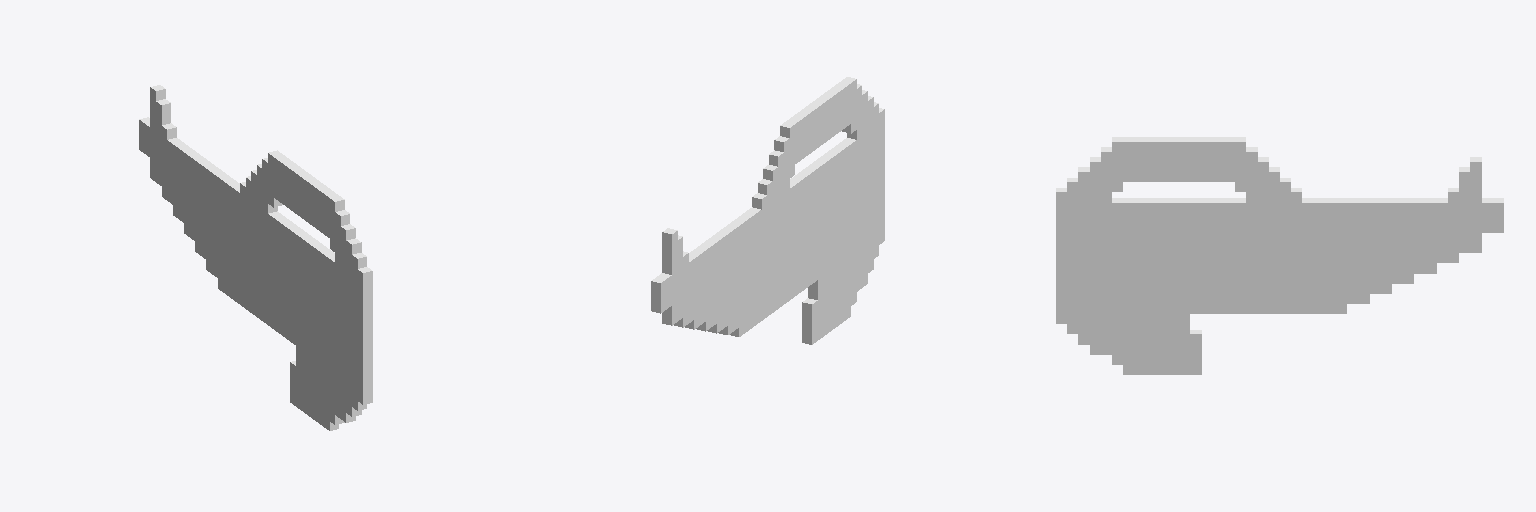
File: Rifle.obj
3 views of the same model, side by side, from view 1: azimuth 30°, elevation 25°; view 2: azimuth 150°, elevation 25°; view 3: azimuth 270°, elevation 25° (orthographic).
Parts seen in each view (by area): view 1: object 1; view 2: object 1; view 3: object 1.
Boxes of the visible parts, x1=… form: object 1: x1=139, y1=85, x2=372, y2=430; object 1: x1=651, y1=77, x2=884, y2=344; object 1: x1=1056, y1=137, x2=1503, y2=374.
Bounding box in the file's own units: 0.1 × 2.3 × 4.